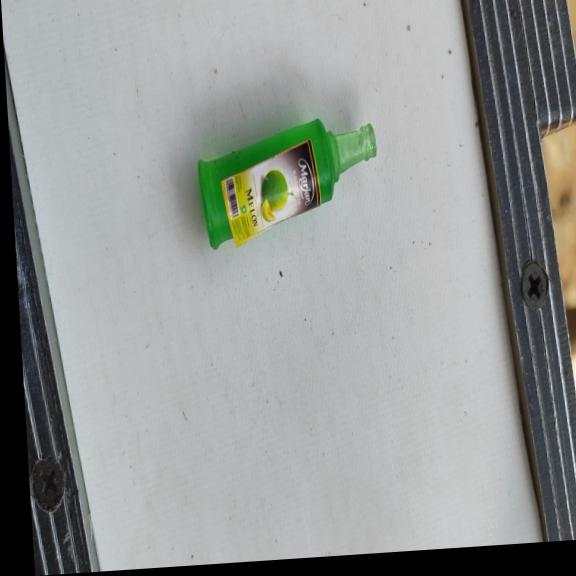Plastik: (194, 113, 382, 251)
